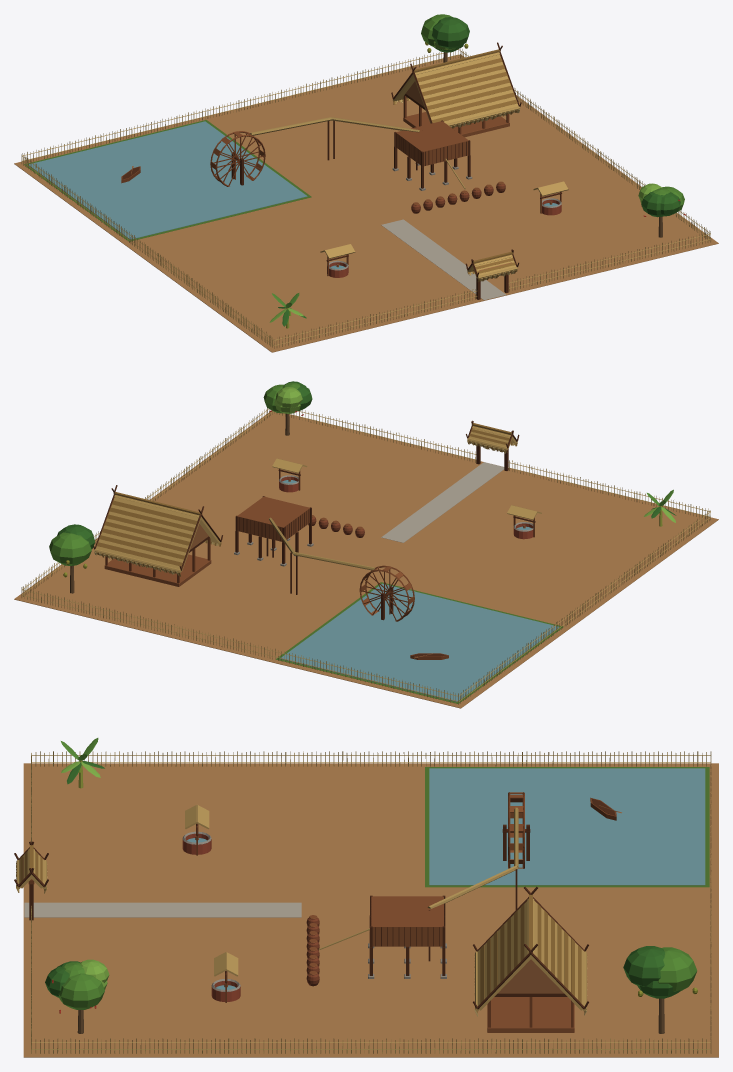
The model's file is water_works.glb.
The picture shows the model from 3 angles, top to bottom: view 1: azimuth 30°, elevation 25°; view 2: azimuth 150°, elevation 25°; view 3: azimuth 270°, elevation 25°; orthographic projection. The views are drawn at different scales.
Visible parts, largest first — view 1: body; view 2: body; view 3: body.
Boxes of the visible parts, x1,y1,x2,y2 form: body: [14, 14, 718, 352]; body: [14, 381, 718, 708]; body: [14, 738, 718, 1057].
Size of the model in its own units: 47.9 by 7.45 by 48.56.
